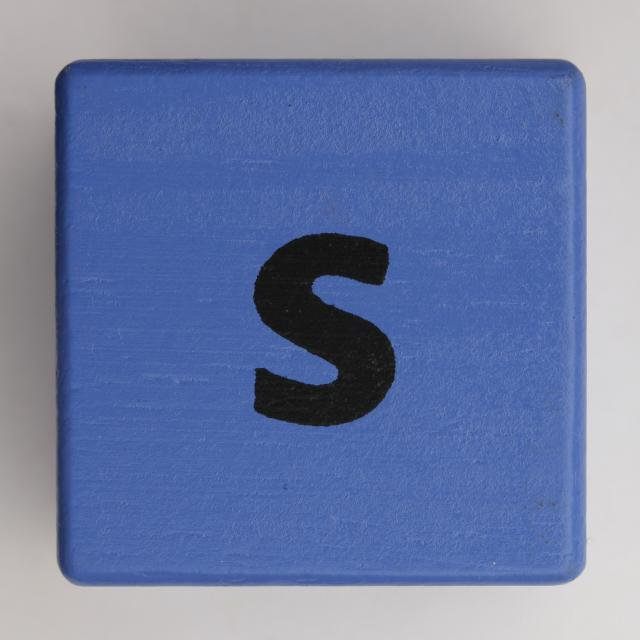S: (229, 210, 430, 455)
